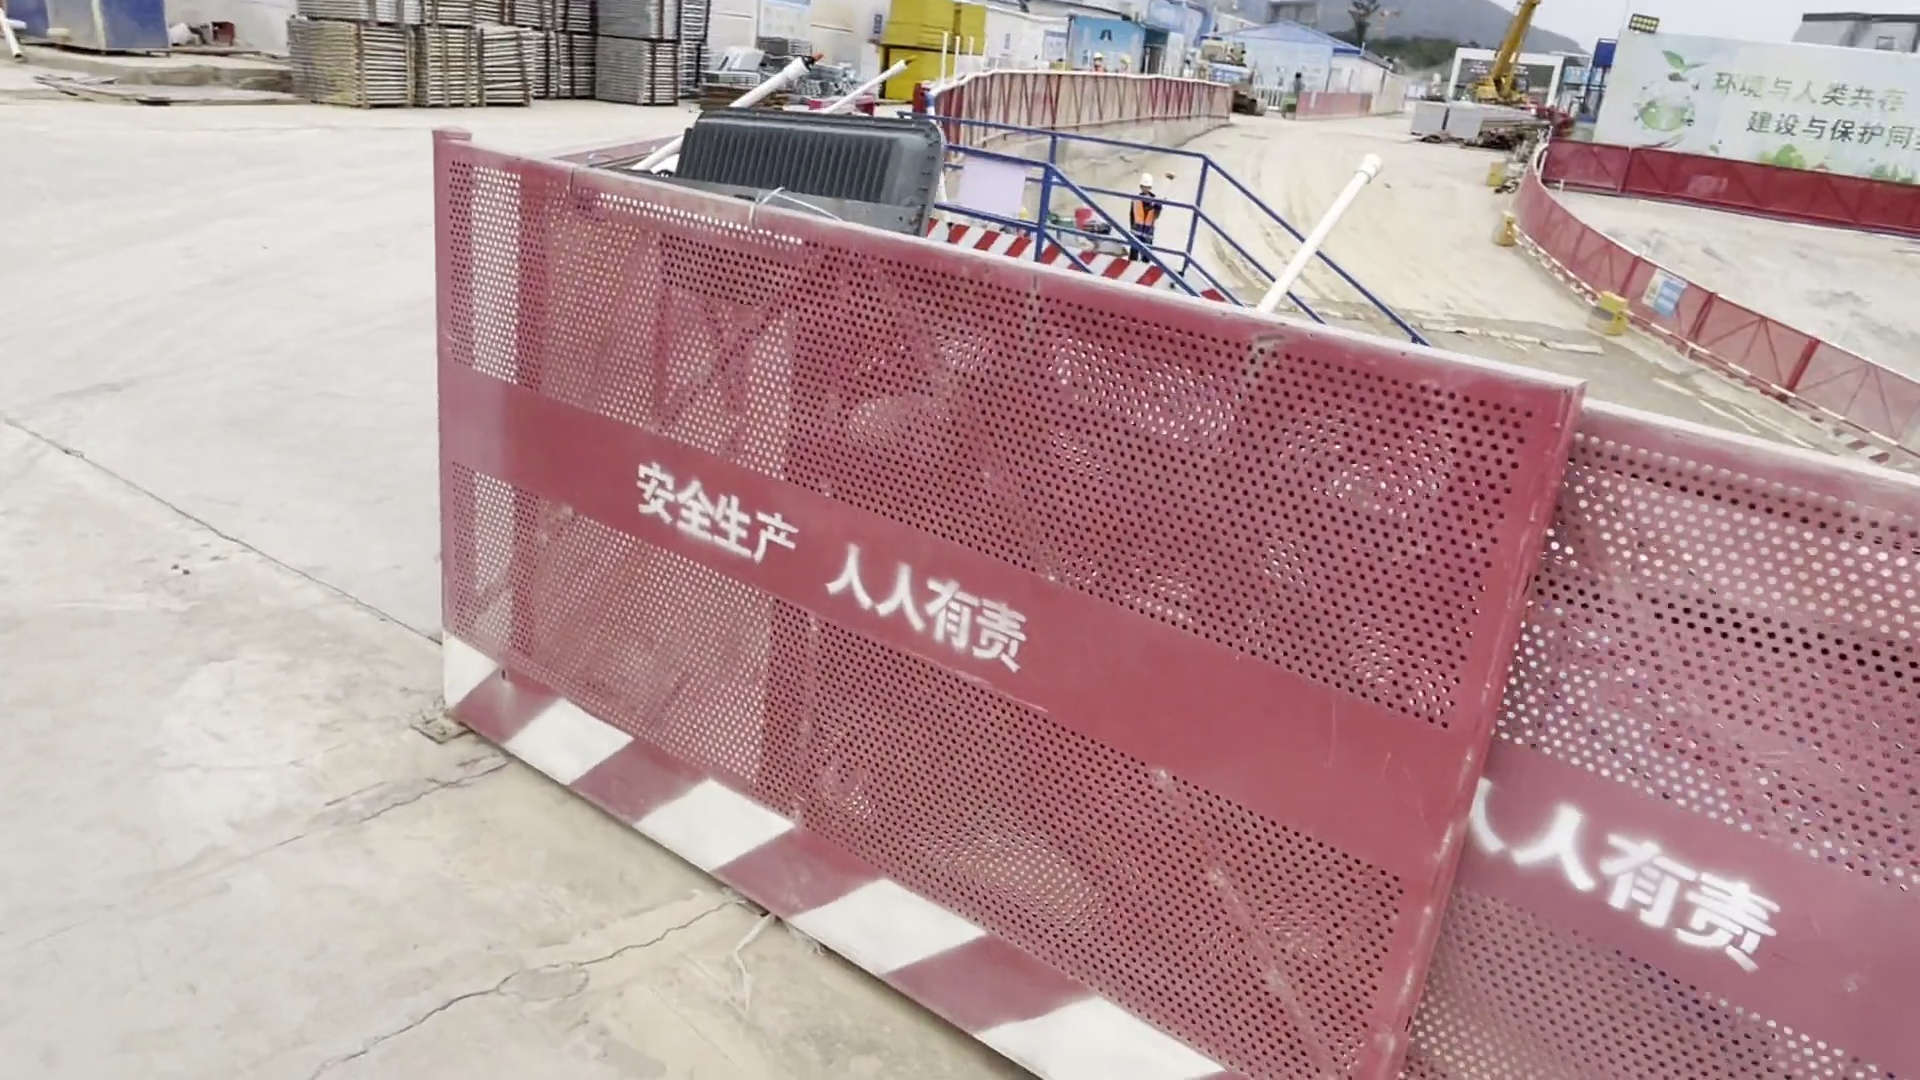fence: (419, 133, 1886, 1072)
